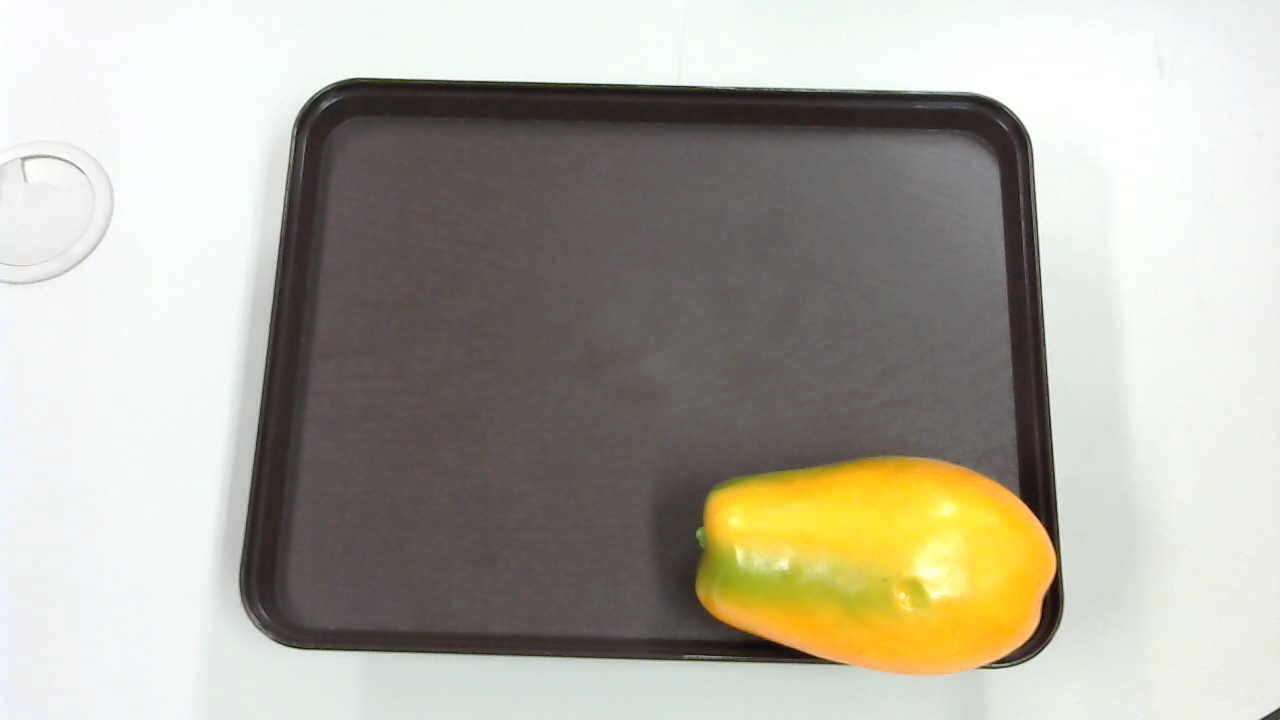papya: (683, 442, 1069, 691)
